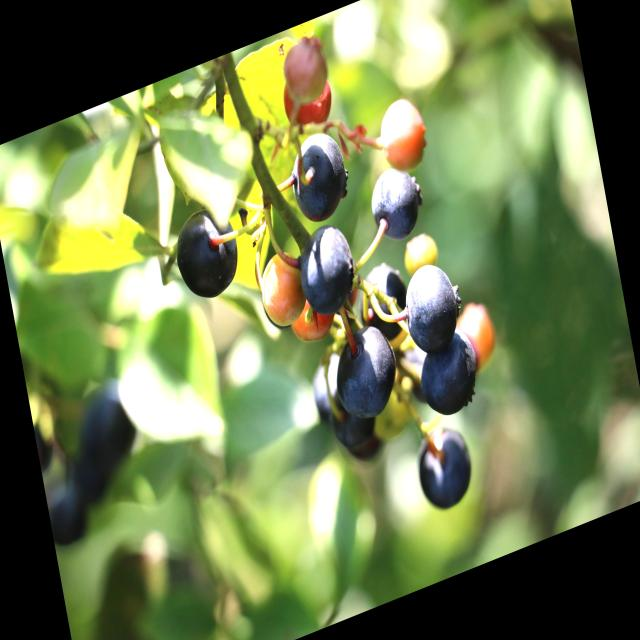blueberry: (326, 311, 408, 436), (393, 246, 473, 370), (67, 360, 151, 477), (166, 192, 246, 314), (277, 119, 361, 235), (288, 213, 363, 329), (413, 324, 489, 435), (408, 410, 481, 520), (363, 149, 432, 257), (347, 248, 417, 353), (300, 335, 362, 443), (324, 373, 382, 458), (340, 406, 396, 477), (45, 477, 95, 556), (70, 446, 117, 514)
blueberry-halfripe: (251, 246, 313, 342), (375, 93, 429, 178), (277, 31, 332, 109), (278, 72, 336, 138), (456, 298, 501, 370)
blueberry-unripe: (398, 226, 441, 286)
